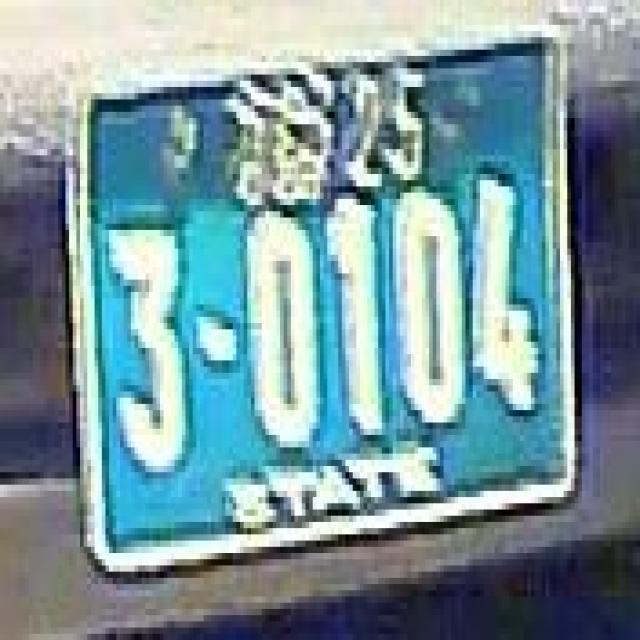State: (222, 69, 340, 208)
